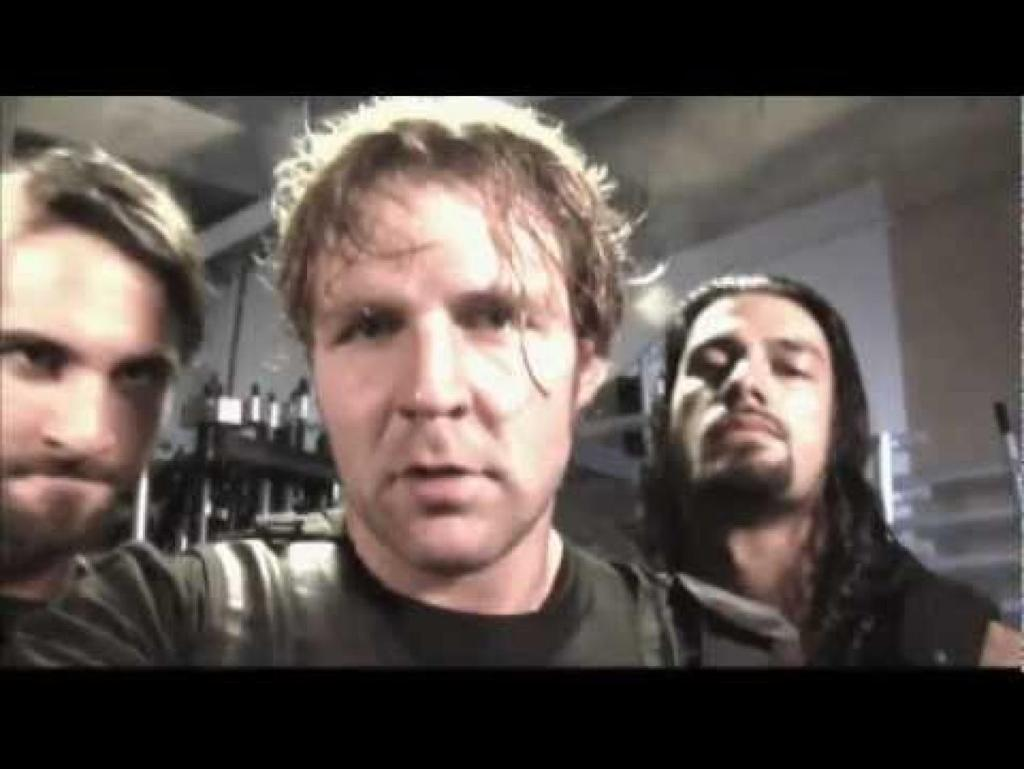face: (328, 172, 576, 560), (1, 246, 160, 539), (678, 300, 824, 508)
